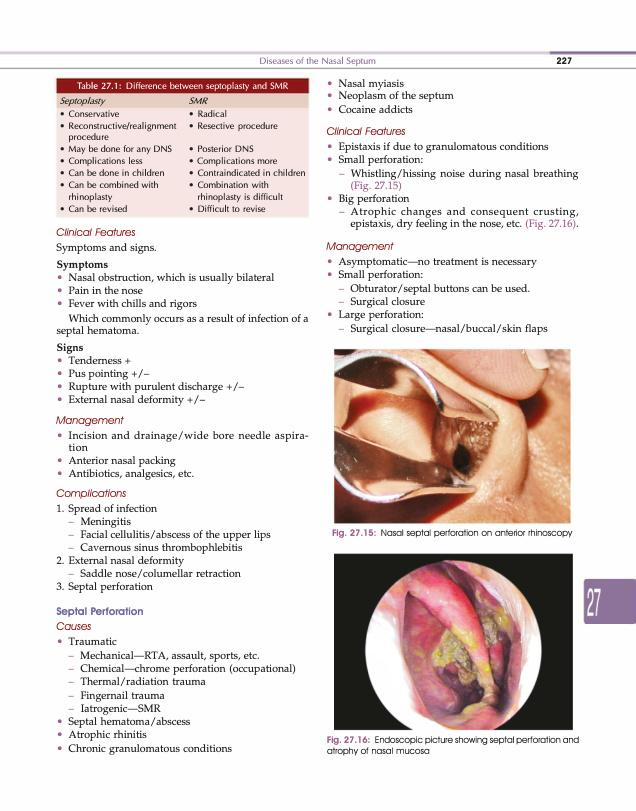caption: (326, 735, 580, 757), (331, 528, 573, 539), (76, 81, 290, 92)
header: (259, 56, 377, 67)
image: (333, 553, 574, 731), (333, 348, 571, 524)
list: (55, 635, 297, 757), (326, 140, 580, 231), (54, 501, 272, 595), (326, 255, 549, 336), (56, 429, 309, 482), (55, 355, 245, 407), (56, 272, 275, 311), (326, 78, 455, 115)
sub-section-heading: (56, 606, 144, 618), (55, 488, 127, 500), (325, 241, 395, 253), (55, 415, 125, 427), (55, 227, 136, 237), (56, 258, 108, 271), (55, 621, 92, 631), (56, 342, 84, 354)
table: (56, 93, 309, 218), (326, 125, 406, 136)
text: (54, 312, 310, 339), (55, 242, 156, 255)
